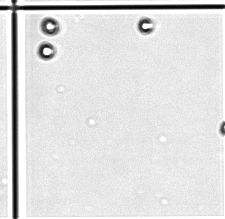Living Cell: (40, 17, 60, 35), (38, 42, 56, 60), (139, 18, 155, 33)
